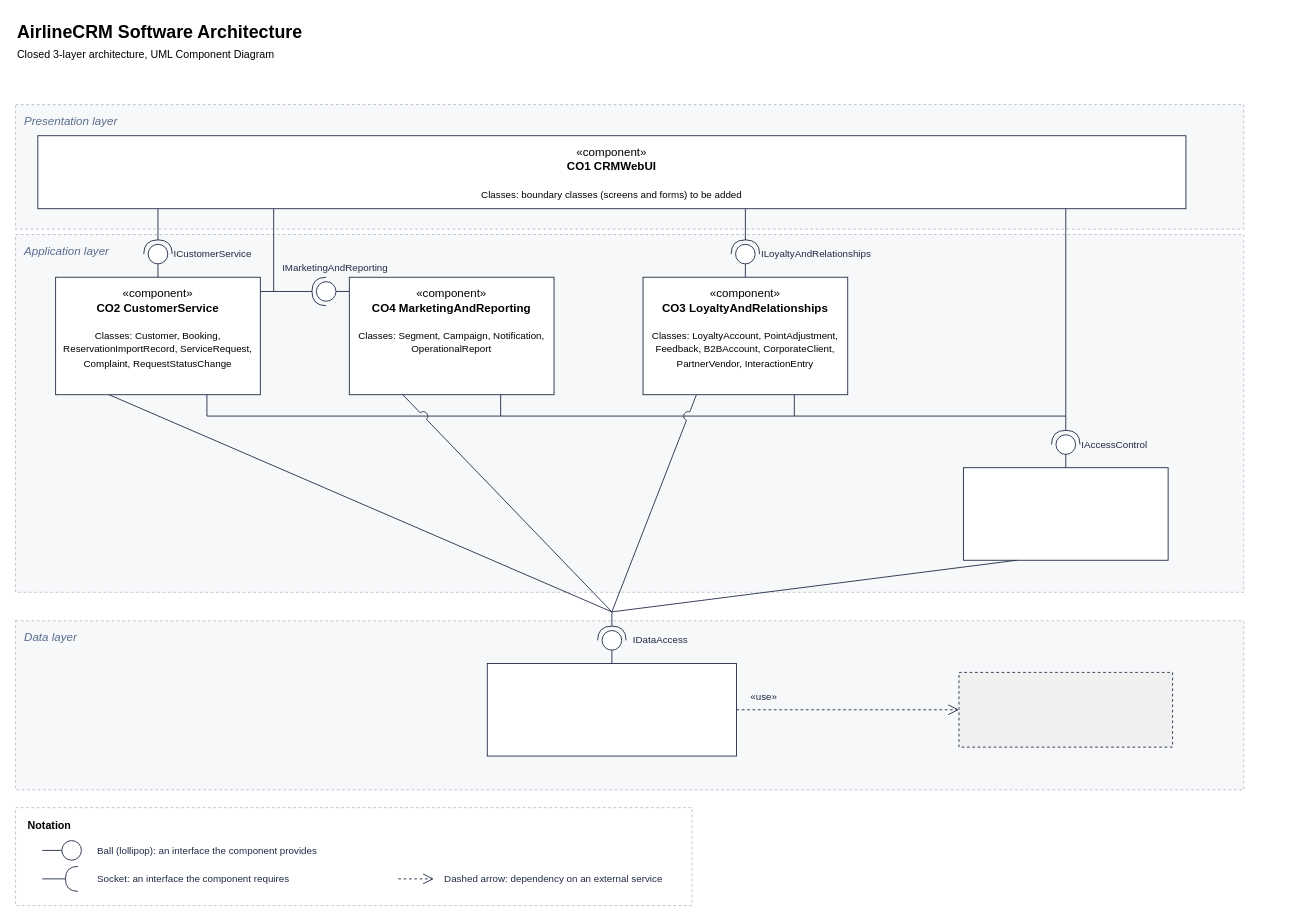
Some shapes in this 1300 by 921 pixel diagram are drawn without their labels. The centre of each missing label's shape, as x and y in pixels:
«component» CO5 AccessControl Classes: StaffAccount, AuditLogEntry: [1065,513]
«component» CO6 DataAccess Classes: repository classes to be added: [611,709]
«external» PostgreSQL / Neon External database service: [1065,709]
